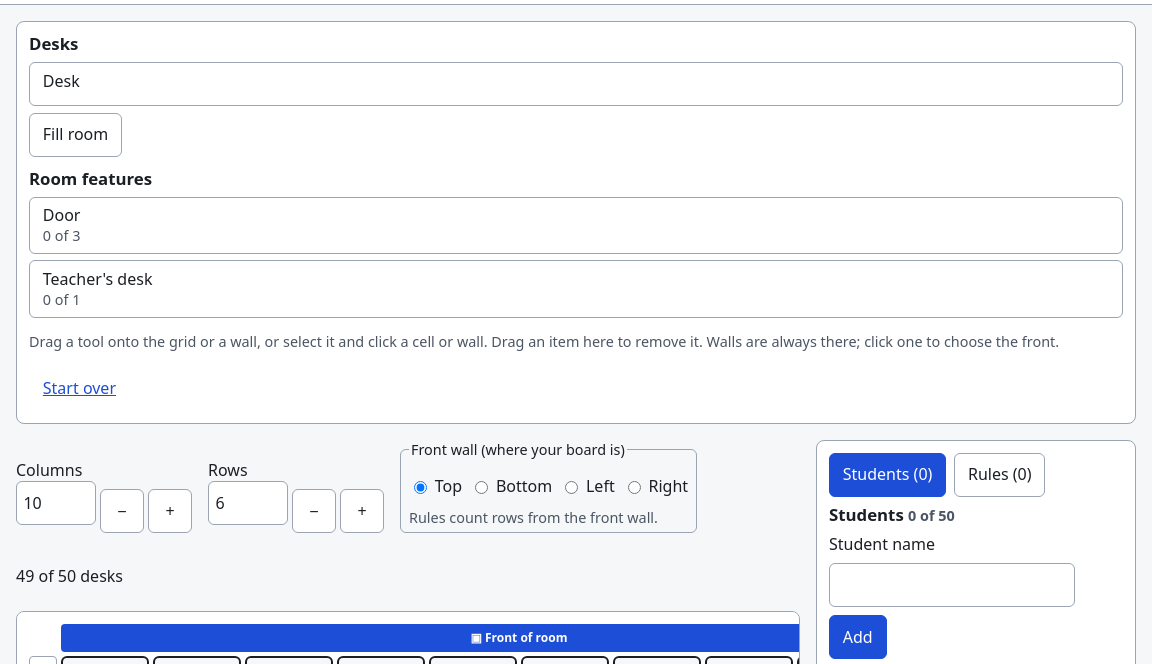
Test case: Plan mode › paint-drag with the Desk tool › says some cells were not filled when the 50-desk cap cuts a stroke short
The width and height of the screenshot is (1152, 664).
Click the button "Desk": (61, 81) [29,62,1123,106]
(page scrolled)
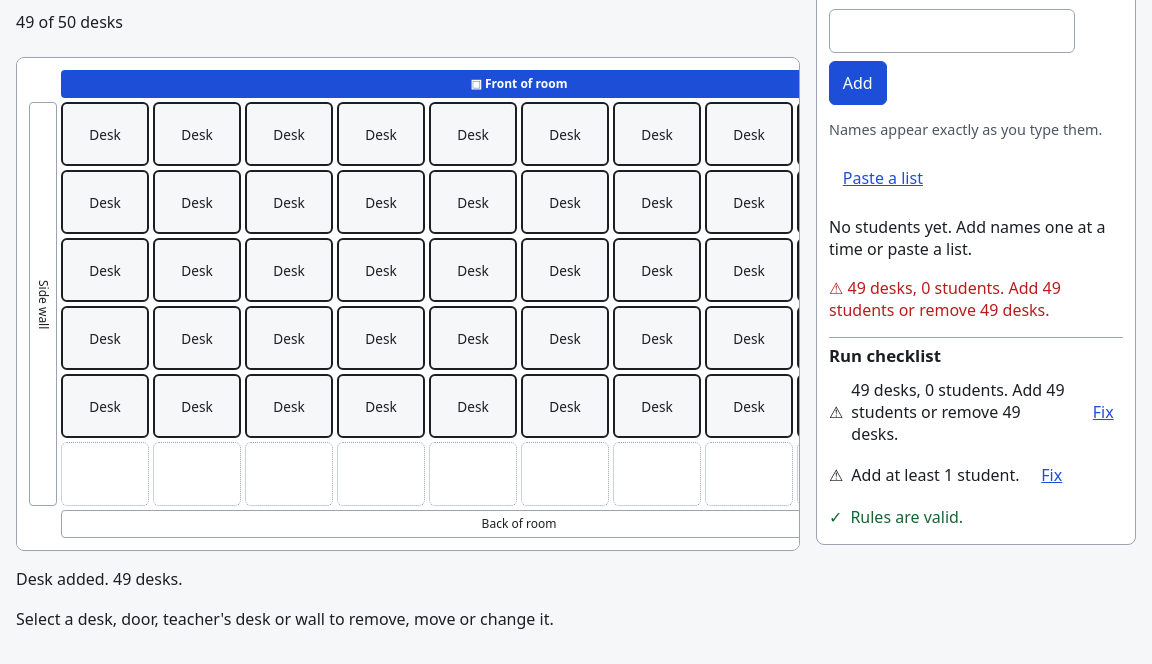
Press the mouse on the cell named "Screen row 6, column 1, empty": (105, 474) [61,442,149,506]
(page scrolled)
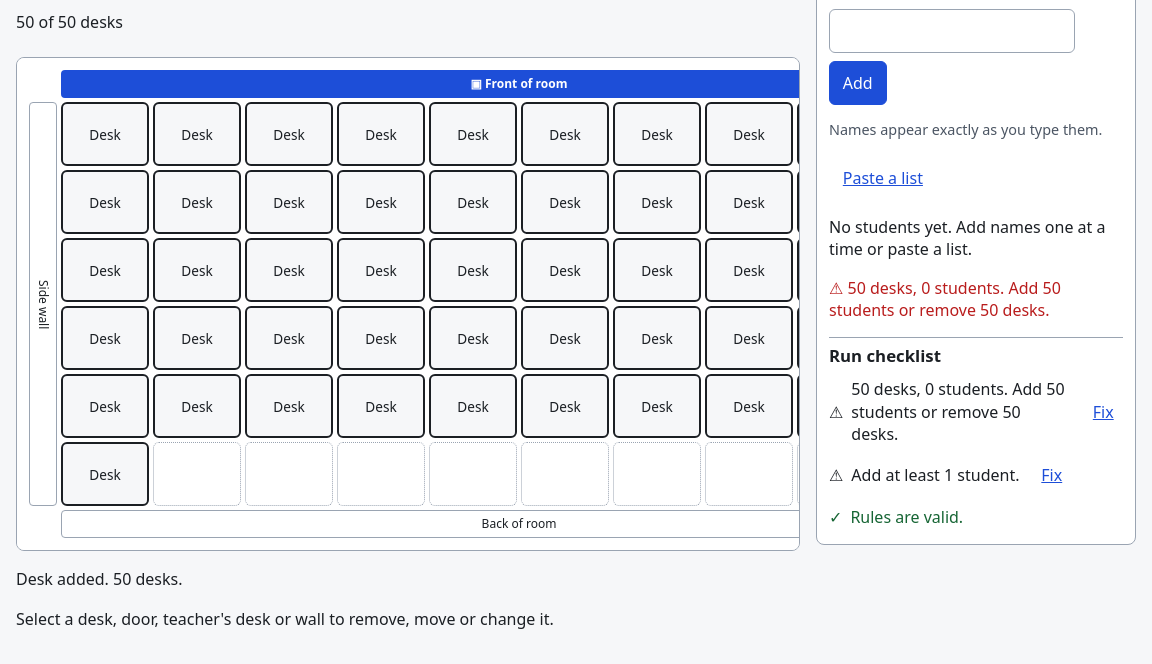
Hover over the cell named "Screen row 6, column 3, empty": (289, 474) [245,442,333,506]
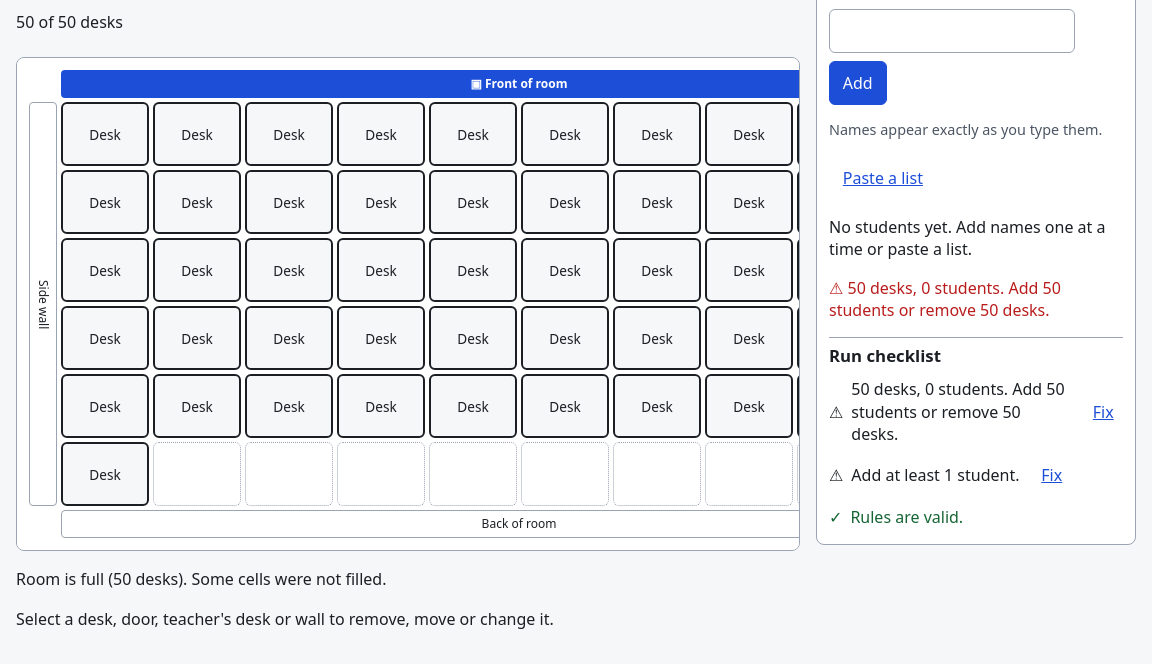
Check: the text "Room is full (50 desks). Some cells were not filled." is shown, box [16,568,386,590]
